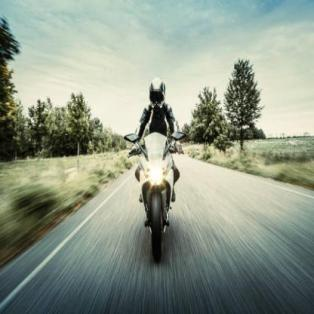Motocicleta: (121, 117, 187, 260)
